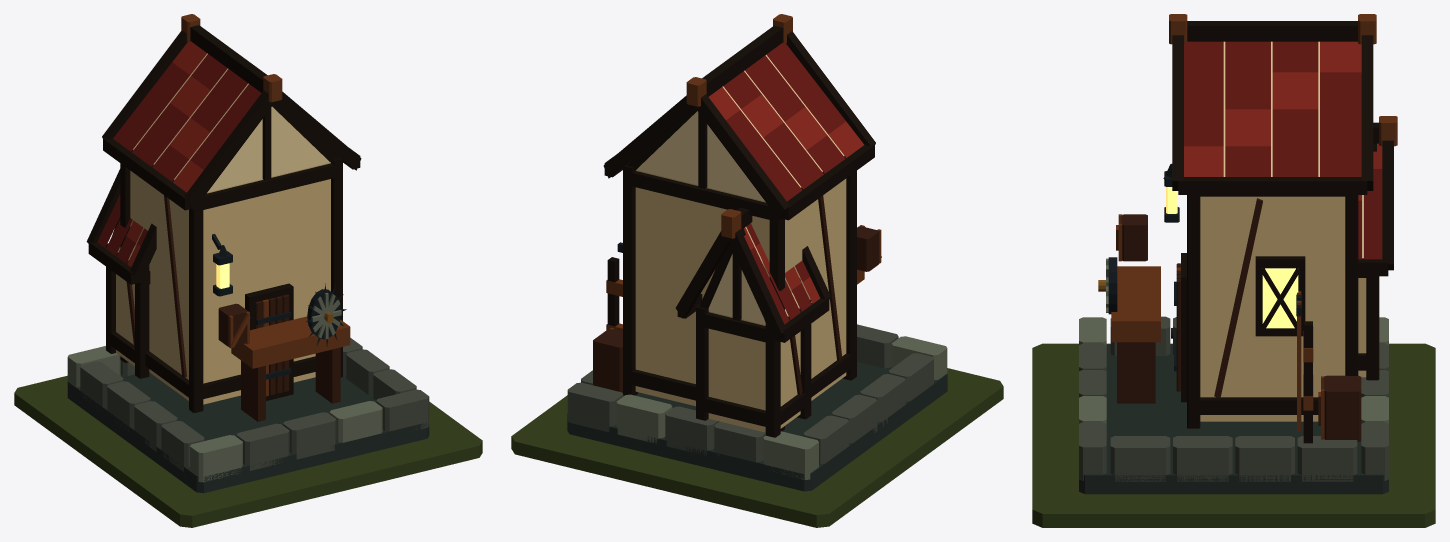
File: workshop_t5.glb
3 views of the same model, side by side, from view 1: azimuth 30°, elevation 25°; view 2: azimuth 150°, elevation 25°; view 3: azimuth 270°, elevation 25° (orthographic). The views are drawn at different scales.
Parts seen in each view (by area): view 1: MMR | workshop | T05 Architecture.001, MMR | workshop | Tier 05 Ground.001; view 2: MMR | workshop | T05 Architecture.001, MMR | workshop | Tier 05 Ground.001; view 3: MMR | workshop | T05 Architecture.001, MMR | workshop | Tier 05 Ground.001.
Part boxes in pixels (x1,y1,x2,y2): MMR | workshop | T05 Architecture.001: [67, 14, 429, 493]; MMR | workshop | Tier 05 Ground.001: [14, 375, 482, 527]; MMR | workshop | T05 Architecture.001: [567, 14, 947, 491]; MMR | workshop | Tier 05 Ground.001: [511, 368, 1003, 527]; MMR | workshop | T05 Architecture.001: [1079, 14, 1397, 494]; MMR | workshop | Tier 05 Ground.001: [1032, 343, 1435, 527].
Size of the model in its own units: 1.3 by 1.51 by 1.3.
Materials: 2 (1 with a texture image).
